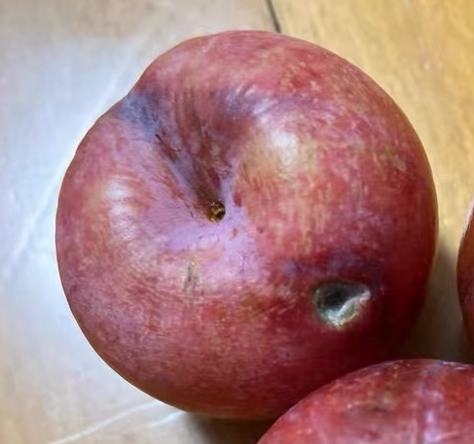plum_C: (55, 29, 441, 422)
